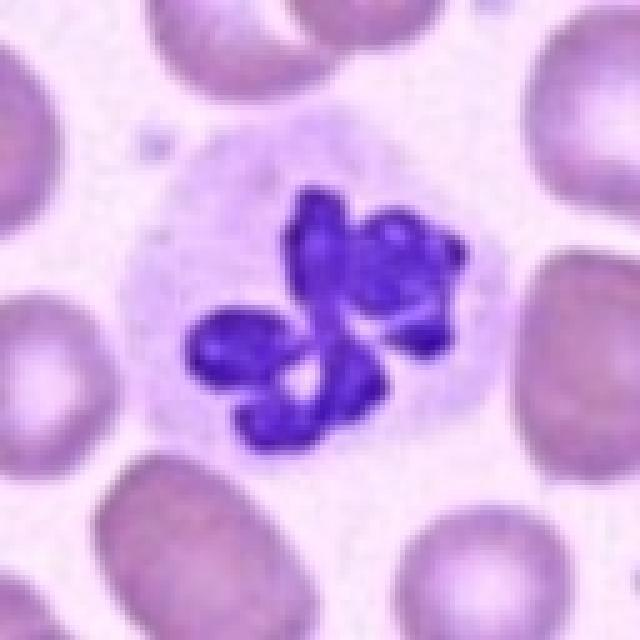neutro: (90, 138, 547, 549)
